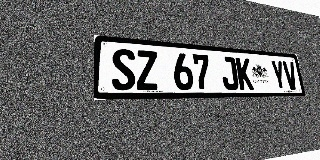6: (172, 53, 194, 90)
7: (191, 54, 212, 90)
J: (220, 56, 239, 90)
K: (235, 57, 254, 90)
S: (111, 48, 136, 90)
V: (282, 61, 299, 90)
Y: (270, 60, 287, 90)
Z: (135, 50, 159, 90)
